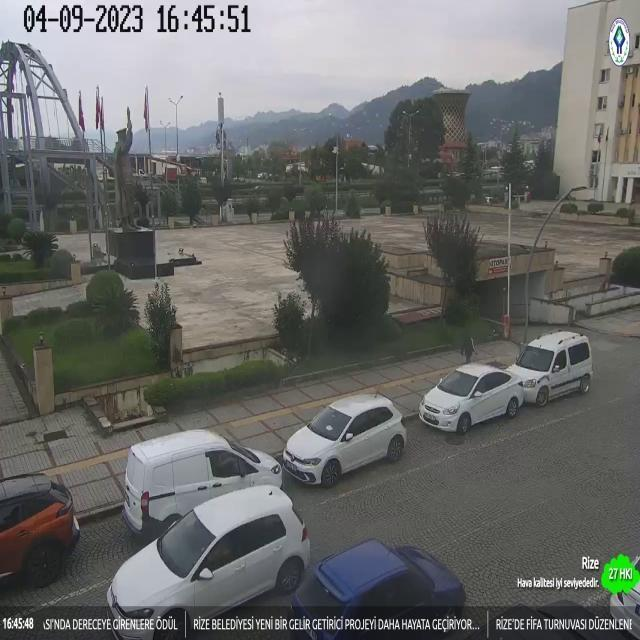Car: (102, 484, 310, 640), (302, 545, 462, 632), (282, 396, 410, 488), (0, 460, 85, 587), (420, 359, 528, 440), (512, 327, 596, 402)
Van: (120, 428, 285, 518)
